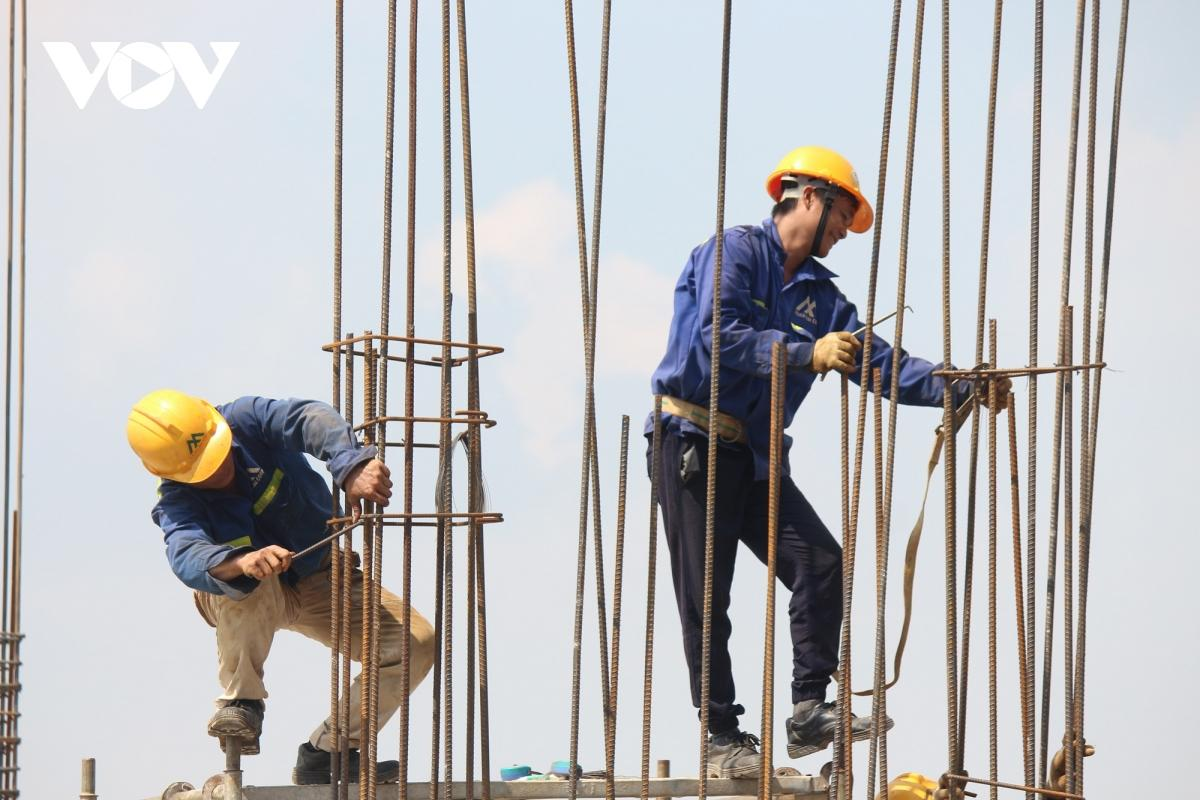Gloves: (810, 330, 862, 376)
Helmet: (126, 388, 232, 484), (765, 144, 874, 234)
Person: (643, 144, 1012, 779), (126, 388, 436, 786)
Safety Boot: (284, 730, 398, 788), (783, 699, 894, 756), (703, 735, 768, 783), (209, 698, 262, 751)
bare-arms: (333, 450, 395, 516), (243, 539, 301, 588)
no-vest: (679, 229, 839, 436), (171, 407, 357, 571)
